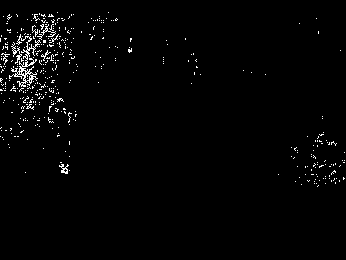person: (46, 97, 80, 179)
